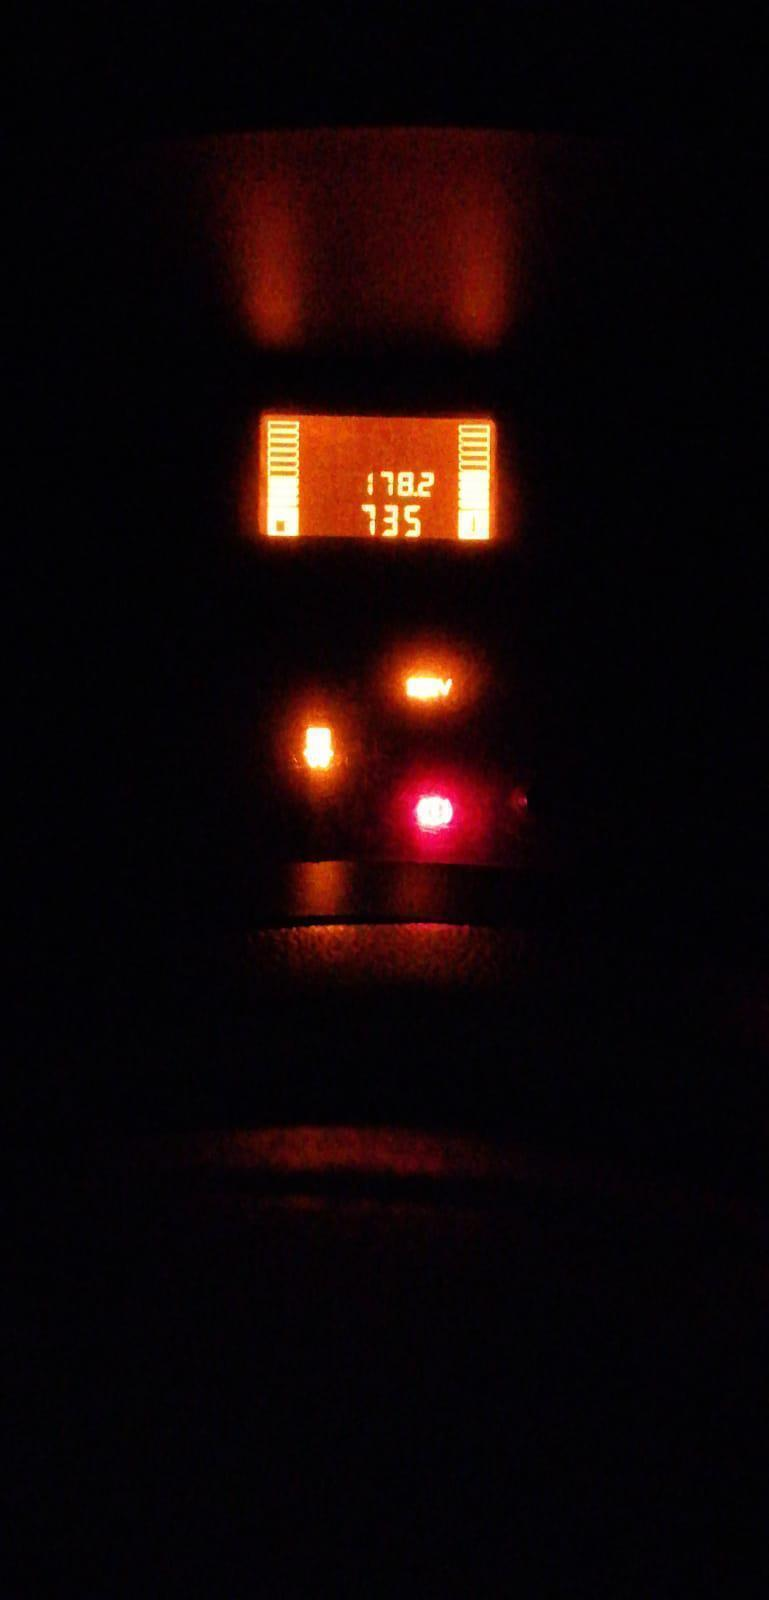,: (413, 491, 418, 497)
1: (366, 470, 374, 496)
2: (417, 471, 434, 496)
3: (381, 504, 399, 536)
5: (403, 504, 421, 537)
7: (360, 503, 376, 535), (379, 470, 394, 496)
8: (396, 471, 413, 496)
odometer: (252, 410, 502, 548)
